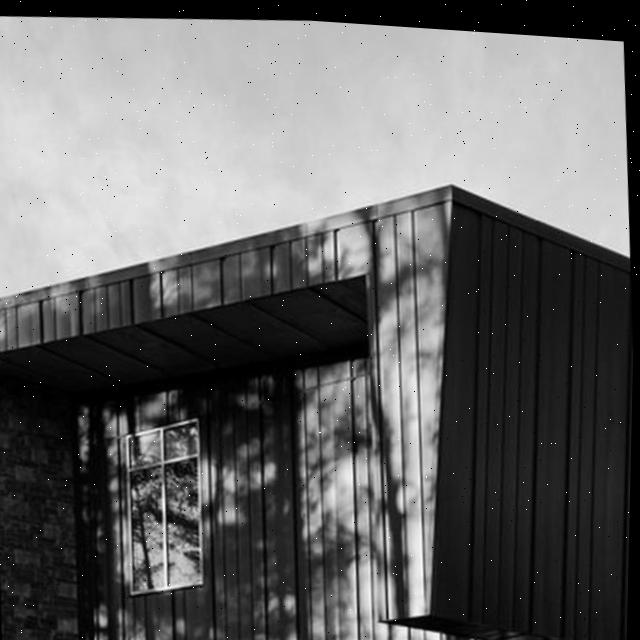building: (0, 142, 637, 640)
